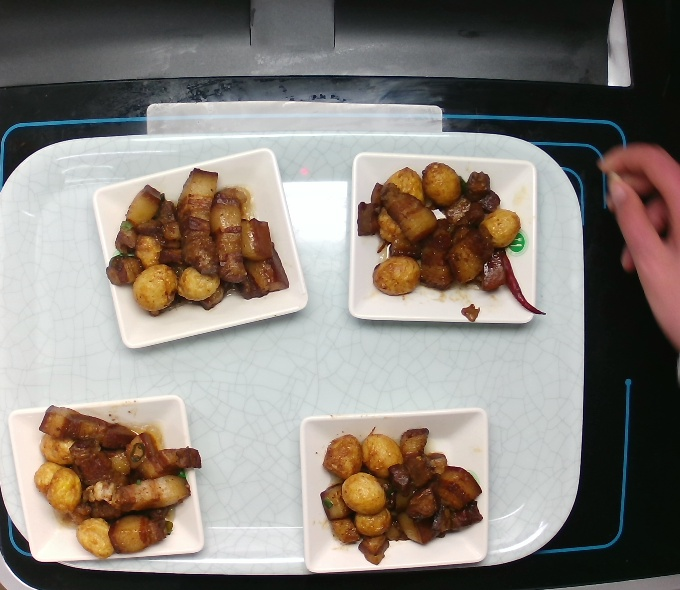wcq-HongShaoRouChaoAnChunDan: (351, 149, 549, 329), (108, 157, 293, 317), (32, 392, 203, 563), (318, 417, 489, 565)
